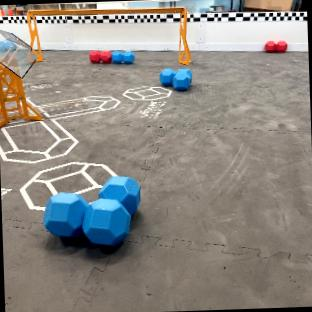V5_BLUE: (43, 177, 140, 248), (159, 68, 192, 90), (113, 51, 134, 63), (0, 42, 15, 51)
V5_RED: (266, 40, 286, 52), (100, 51, 111, 63), (90, 51, 101, 62)
